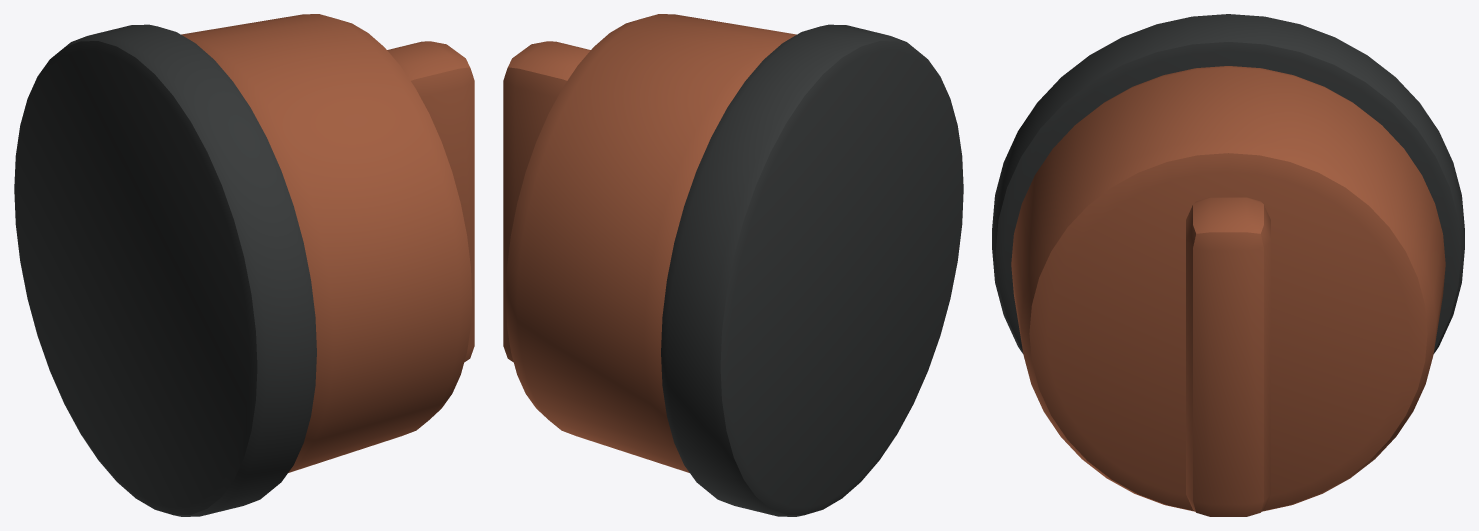
Rendered from contact_grill_temperature_dial.glb.
3 renders of one model, left to right at view 1: azimuth 30°, elevation 25°; view 2: azimuth 150°, elevation 25°; view 3: azimuth 270°, elevation 25°, orthographic. The views are drawn at different scales.
Parts seen in each view (by area): view 1: contact_grill_temperature_dial_x; view 2: contact_grill_temperature_dial_x; view 3: contact_grill_temperature_dial_x.
Boxes of the visible parts, x1,y1,x2,y2 form: contact_grill_temperature_dial_x: (14,14,474,516); contact_grill_temperature_dial_x: (503,14,963,516); contact_grill_temperature_dial_x: (992,14,1464,516).
Size of the model in its own units: 0.03 by 0.0389 by 0.0389.
